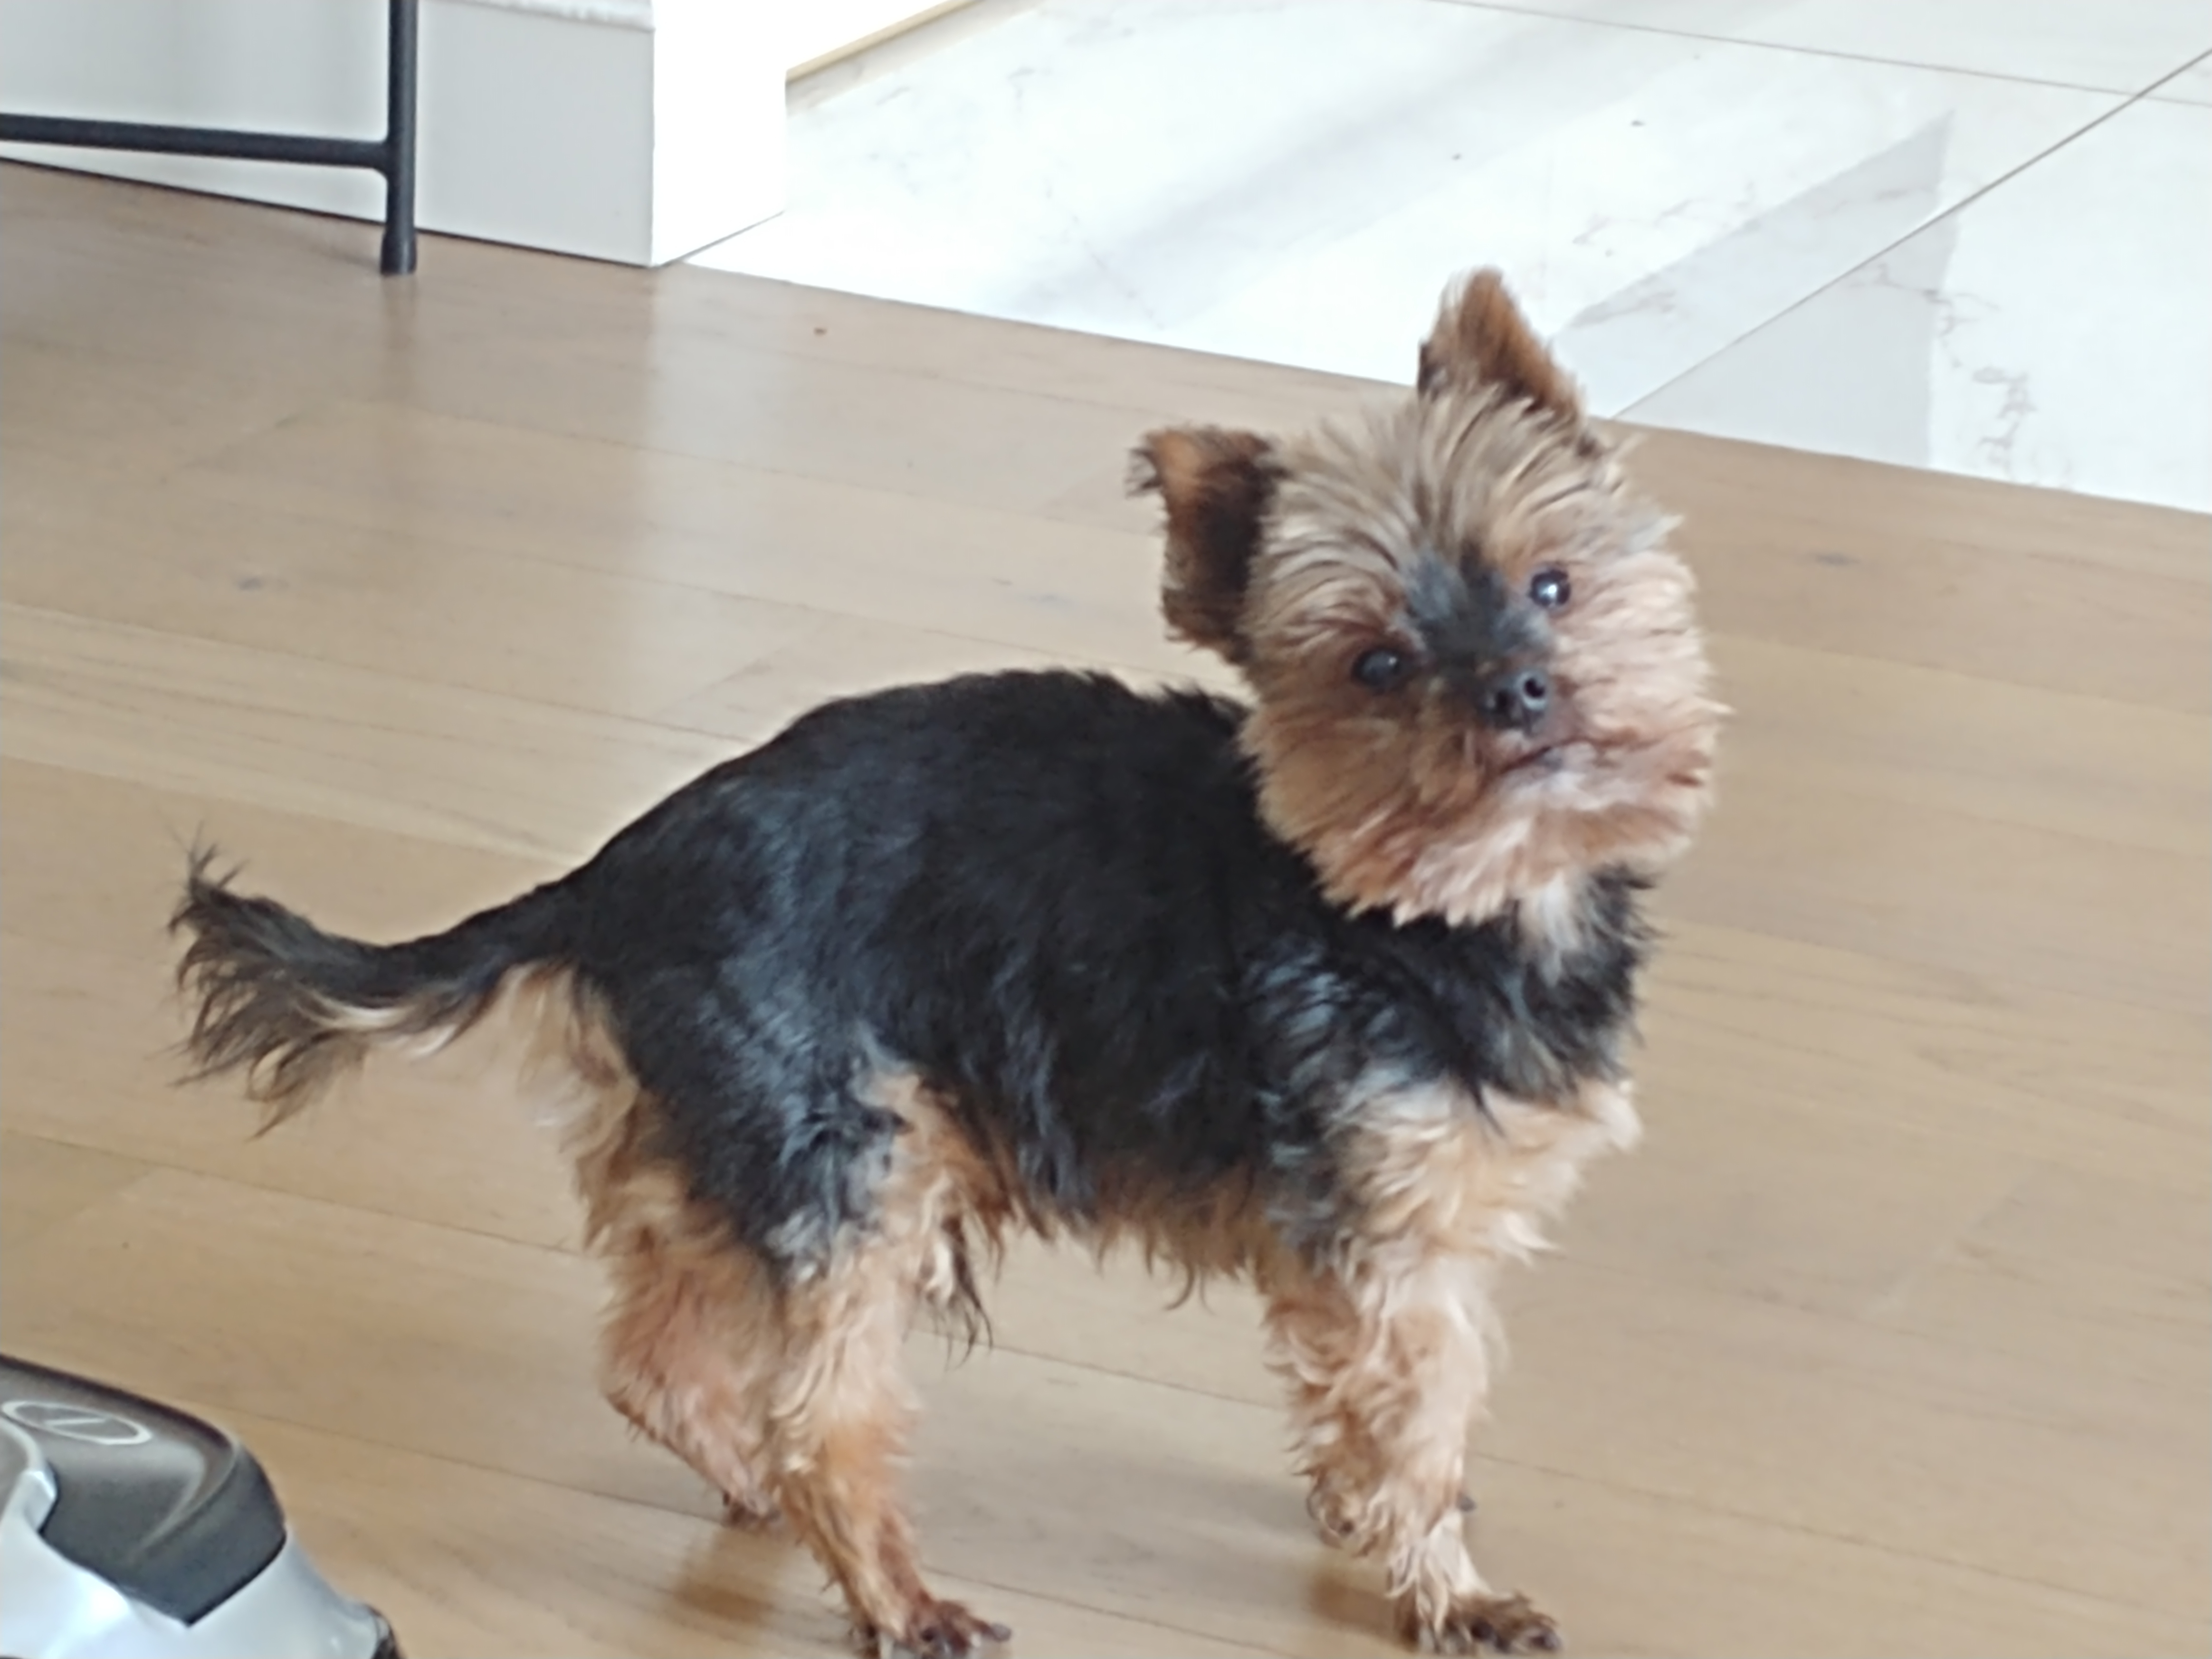dog: (132, 267, 1763, 1657)
